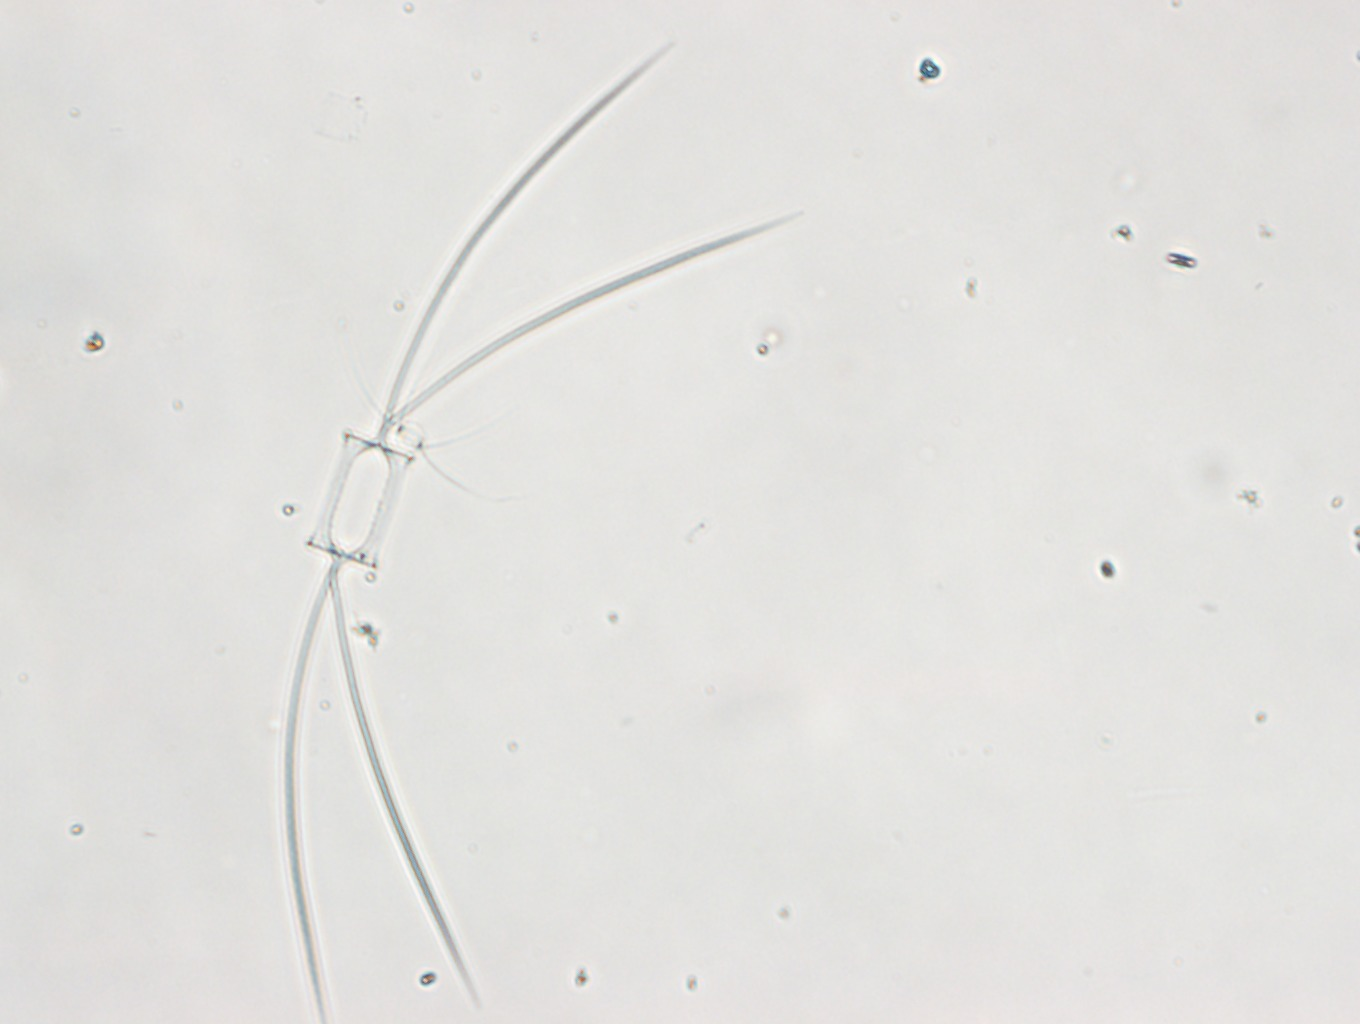chaetoceros: (282, 34, 797, 1018)
